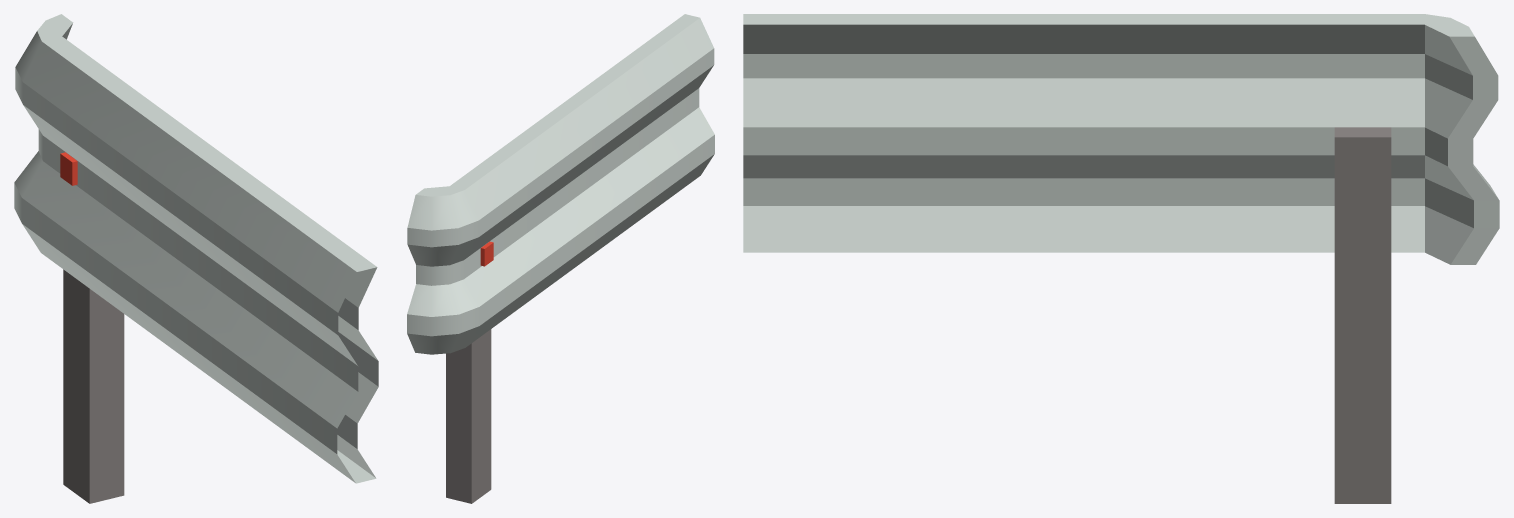
File: SM_Fencing_End_01.fbx
3 views of the same model, side by side, from view 1: azimuth 30°, elevation 25°; view 2: azimuth 150°, elevation 25°; view 3: azimuth 270°, elevation 25° (orthographic). The views are drawn at different scales.
Visible parts, largest first — view 1: SM_Fencing_End_01; view 2: SM_Fencing_End_01; view 3: SM_Fencing_End_01.
Part boxes in pixels (x1,y1,x2,y2): SM_Fencing_End_01: [14, 14, 378, 503]; SM_Fencing_End_01: [407, 14, 714, 503]; SM_Fencing_End_01: [743, 14, 1499, 503].
Size of the model in its own units: 12.62 by 83.46 by 122.
